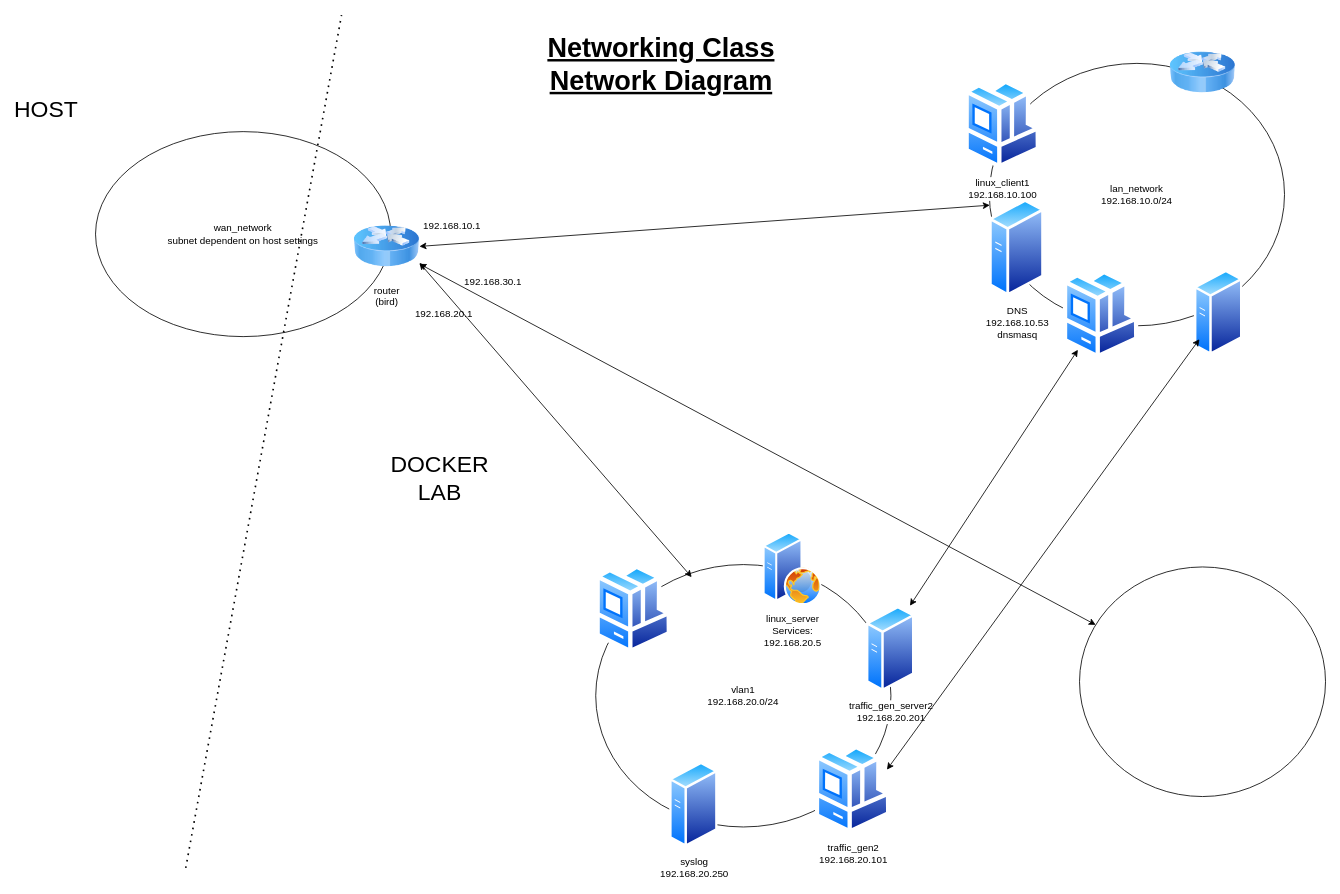
The diagram is 1340 pixels wide and 894 high, and some of its shapes have lost their labels. The box of each missing label's shape, as (x1, y1, x2, y2) in pixels:
linux_client2 192.168.20.100: (595, 564, 671, 653)
traffic_gen1 192.168.10.101: (1063, 269, 1139, 359)
traffic_gen_server1 192.168.10.201: (1194, 269, 1242, 356)
unauthorized_device: (1169, 39, 1235, 105)
vlan2 192.168.30.0/24 planned for future development: (1079, 566, 1326, 797)
